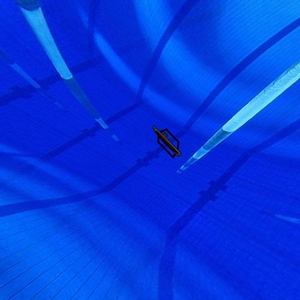submarine: (150, 122, 184, 163)
